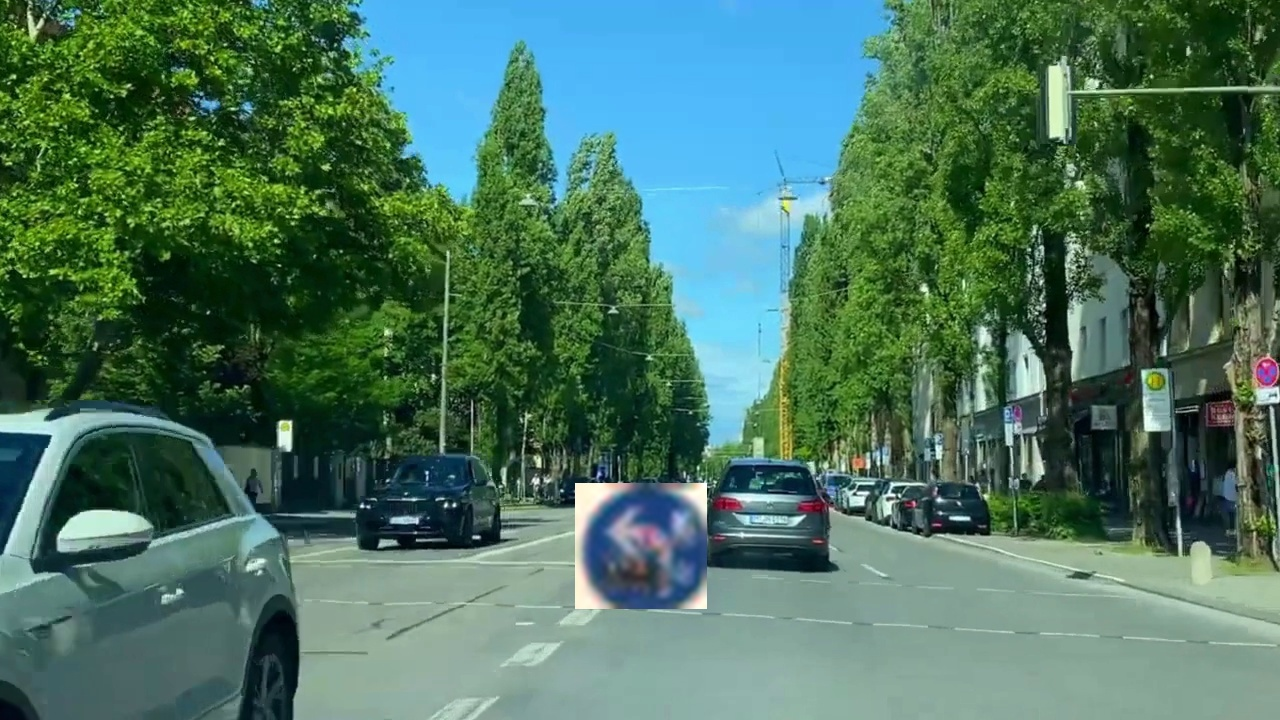Turn left: (575, 483, 707, 609)
